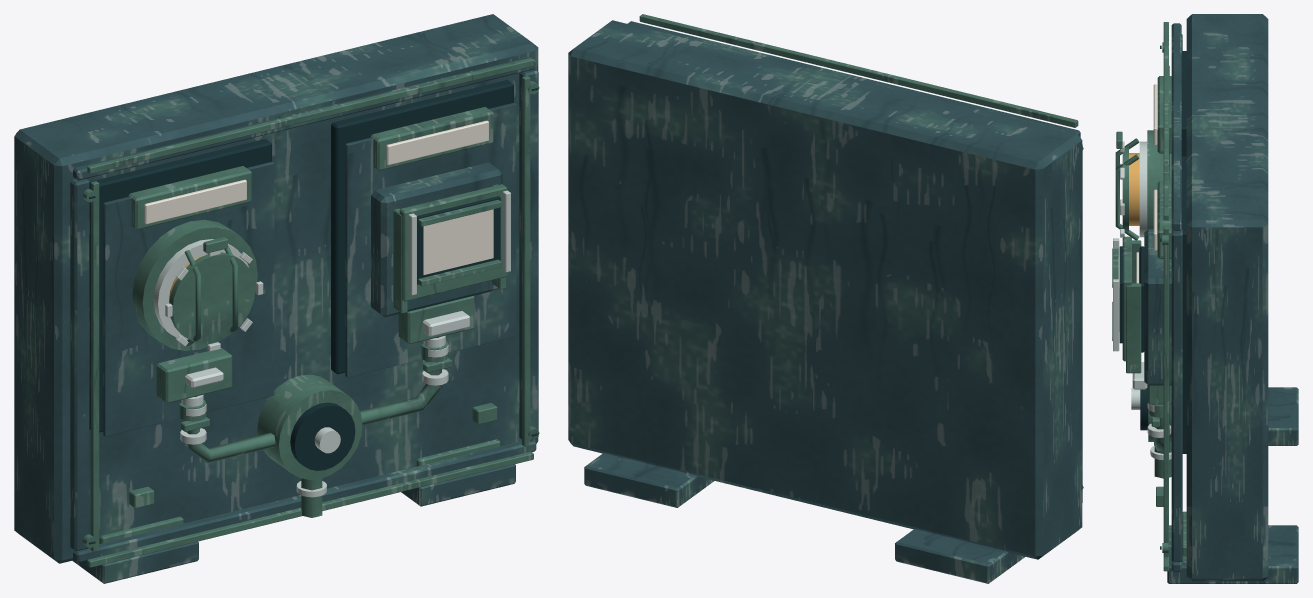
The model's file is SM_C1_Gate_System_Panel.fbx.
The picture shows the model from 3 angles, left to right: view 1: azimuth 30°, elevation 25°; view 2: azimuth 150°, elevation 25°; view 3: azimuth 270°, elevation 25°; orthographic projection. The views are drawn at different scales.
Parts seen in each view (by area): view 1: SM_C1_Gate_System_Panel_Casting, SM_C1_Gate_System_Panel_Patina, SM_C1_Gate_System_Panel_Recess, SM_C1_Gate_System_Panel_Blank_Paper, SM_C1_Gate_System_Panel_Salt_Porcelain; view 2: SM_C1_Gate_System_Panel_Casting, SM_C1_Gate_System_Panel_Patina; view 3: SM_C1_Gate_System_Panel_Casting, SM_C1_Gate_System_Panel_Patina, SM_C1_Gate_System_Panel_Recess, SM_C1_Gate_System_Panel_Salt_Porcelain, SM_C1_Gate_System_Panel_Blank_Paper, SM_C1_Gate_System_Panel_Lamp_Lens.
Part boxes in pixels (x1,y1,x2,y2): SM_C1_Gate_System_Panel_Casting: (14, 14, 538, 583); SM_C1_Gate_System_Panel_Patina: (82, 58, 539, 567); SM_C1_Gate_System_Panel_Recess: (89, 80, 538, 544); SM_C1_Gate_System_Panel_Blank_Paper: (144, 120, 493, 274); SM_C1_Gate_System_Panel_Salt_Porcelain: (153, 190, 510, 497); SM_C1_Gate_System_Panel_Casting: (568, 20, 1082, 583); SM_C1_Gate_System_Panel_Patina: (639, 14, 1083, 488); SM_C1_Gate_System_Panel_Casting: (1144, 14, 1298, 583); SM_C1_Gate_System_Panel_Patina: (1112, 22, 1186, 571); SM_C1_Gate_System_Panel_Recess: (1119, 45, 1186, 549); SM_C1_Gate_System_Panel_Salt_Porcelain: (1113, 141, 1171, 460); SM_C1_Gate_System_Panel_Blank_Paper: (1118, 84, 1157, 331); SM_C1_Gate_System_Panel_Lamp_Lens: (1129, 153, 1139, 225).
Size of the model in its own units: 110 by 92 by 41.1.
Materials: 6 (2 with a texture image).
